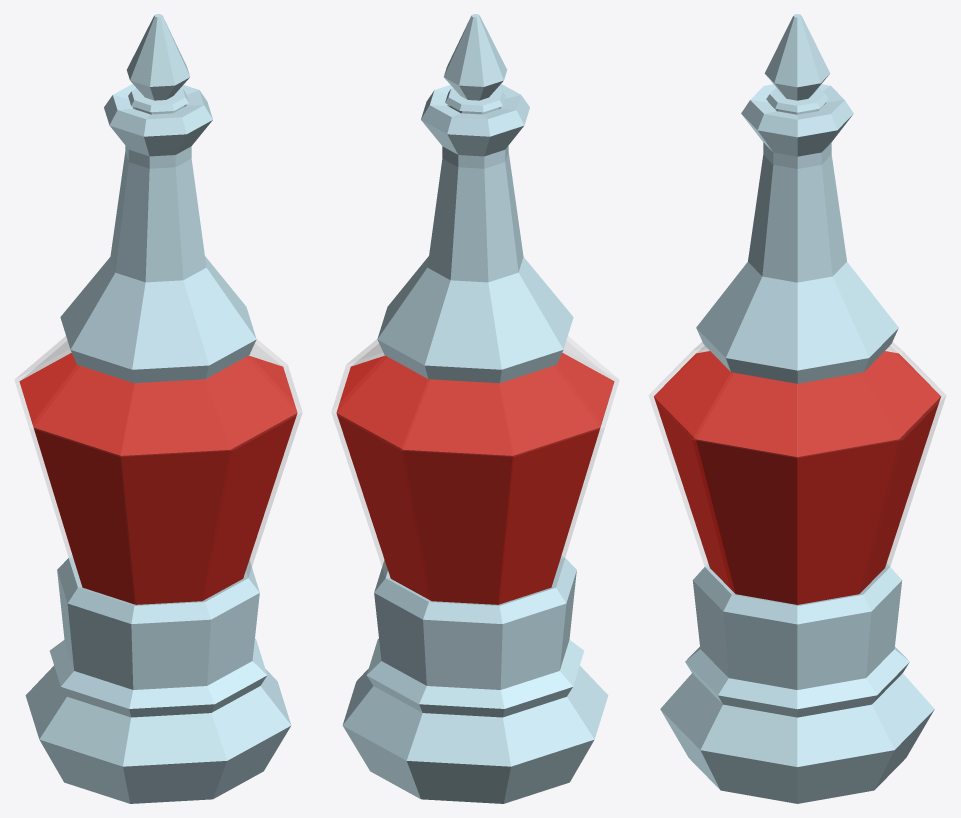
File: Type_01_Red.fbx
3 views of the same model, side by side, from view 1: azimuth 30°, elevation 25°; view 2: azimuth 150°, elevation 25°; view 3: azimuth 270°, elevation 25° (orthographic).
Parts seen in each view (by area): view 1: Type_01_Bottle_Red, Type_01_Cork_Red; view 2: Type_01_Bottle_Red, Type_01_Cork_Red; view 3: Type_01_Bottle_Red, Type_01_Cork_Red.
Boxes of the visible parts, x1=… form: Type_01_Bottle_Red: x1=15, y1=84, x2=302, y2=803; Type_01_Cork_Red: x1=127, y1=14, x2=189, y2=114; Type_01_Bottle_Red: x1=331, y1=84, x2=618, y2=803; Type_01_Cork_Red: x1=444, y1=14, x2=506, y2=114; Type_01_Bottle_Red: x1=649, y1=84, x2=945, y2=803; Type_01_Cork_Red: x1=764, y1=14, x2=830, y2=114.
Bounding box in the file's own units: 15 × 41.23 × 15.
